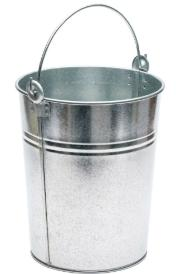SEAU: (3, 3, 172, 274)
